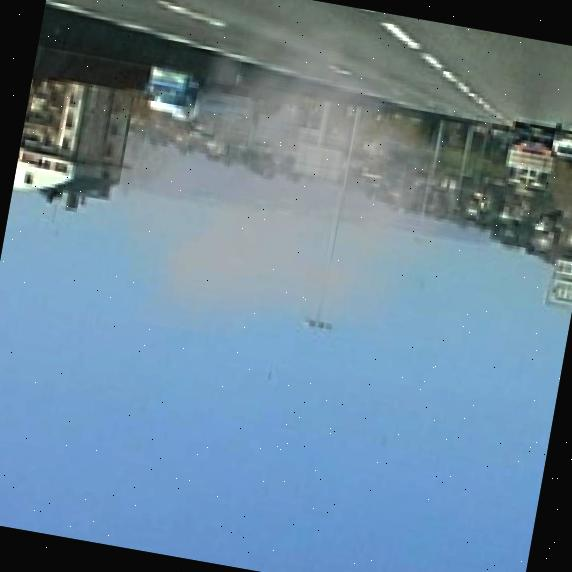smoke: (57, 0, 520, 379)
